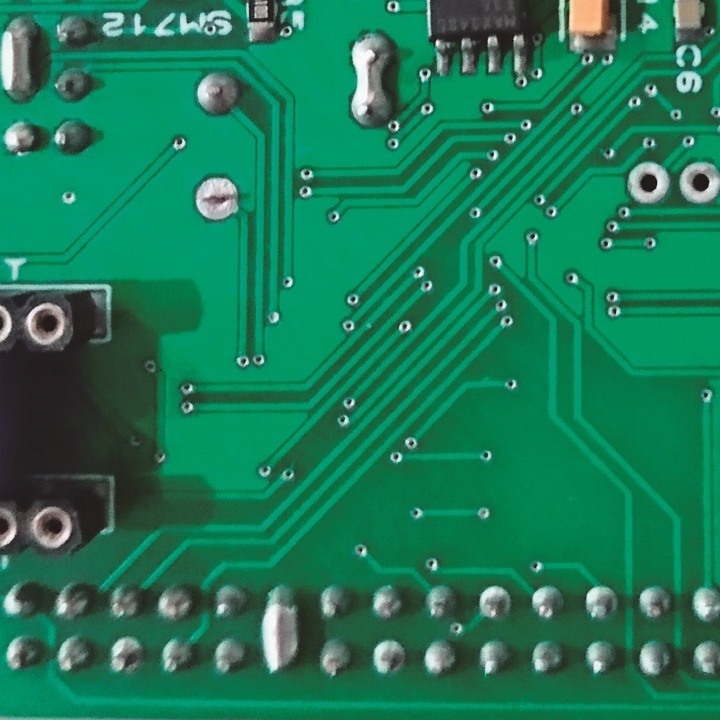F: (192, 174, 243, 225), (621, 158, 673, 207), (677, 159, 720, 208), (366, 637, 411, 681), (581, 580, 621, 627), (476, 579, 515, 626), (106, 633, 144, 680)
P: (344, 28, 399, 129), (257, 580, 301, 681), (1, 8, 45, 108)
